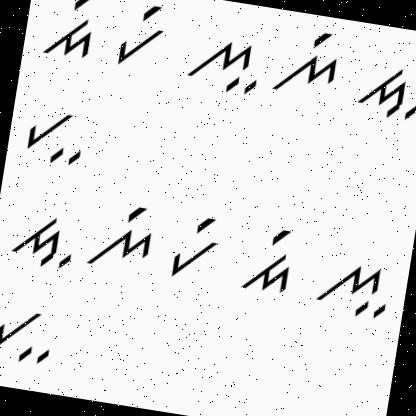dah: (6, 207, 79, 273), (355, 57, 416, 128)
dang: (233, 216, 302, 304), (33, 0, 105, 66)
nah: (312, 247, 397, 324), (184, 25, 265, 100)
nang: (84, 194, 159, 277), (269, 23, 345, 102)
pah: (16, 94, 94, 173), (0, 295, 63, 368)
pang: (163, 204, 225, 286), (109, 0, 173, 74)
